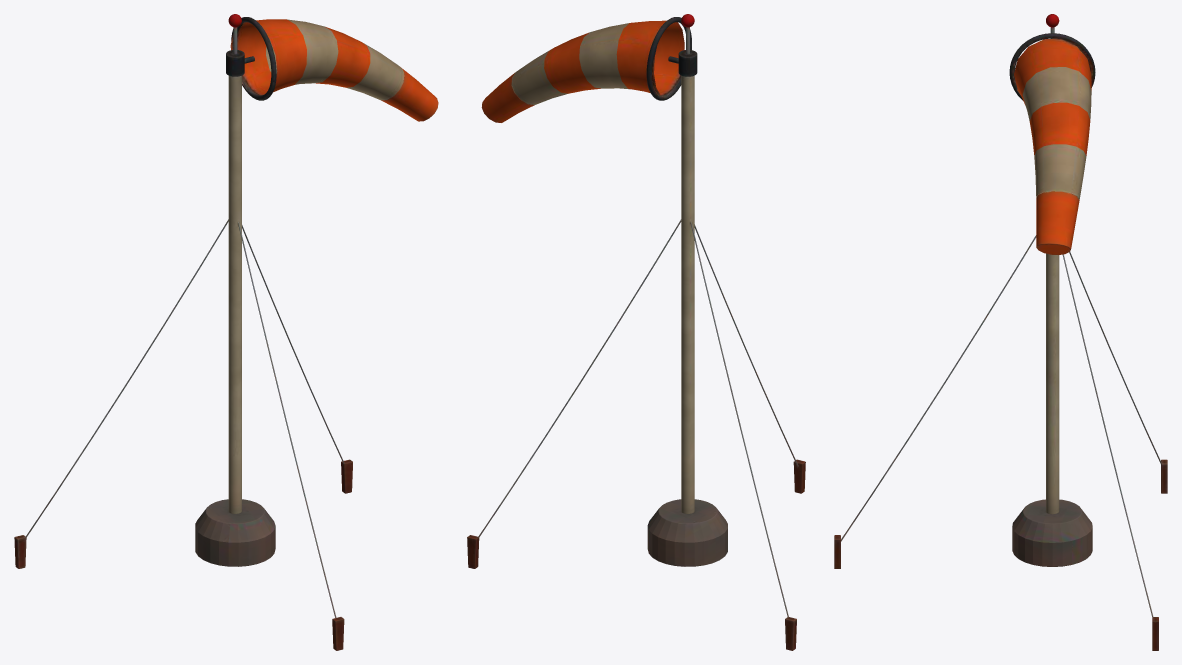
Rendered from windsock.glb.
3 views of the same model, side by side, from view 1: azimuth 30°, elevation 25°; view 2: azimuth 150°, elevation 25°; view 3: azimuth 270°, elevation 25° (orthographic).
Visible parts, largest first — view 1: windsock; view 2: windsock; view 3: windsock.
Part boxes in pixels (x1=…): windsock: x1=14, y1=14, x2=438, y2=650; windsock: x1=467, y1=14, x2=805, y2=650; windsock: x1=834, y1=14, x2=1167, y2=650.
Bounding box in the file's own units: 3.13 × 4.56 × 2.48.
Materials: 1 (1 with a texture image).
